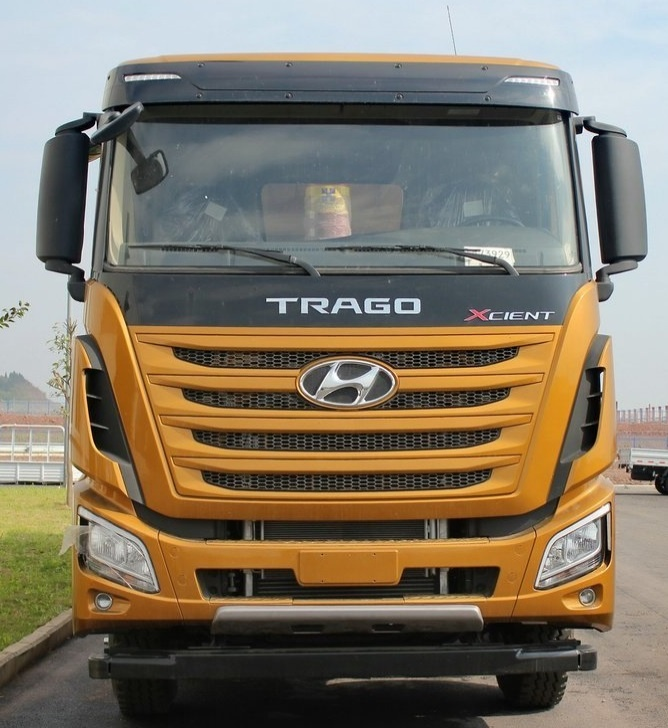heavy truck: (44, 59, 633, 705)
